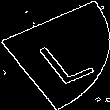L_NW: (19, 26, 91, 84)
